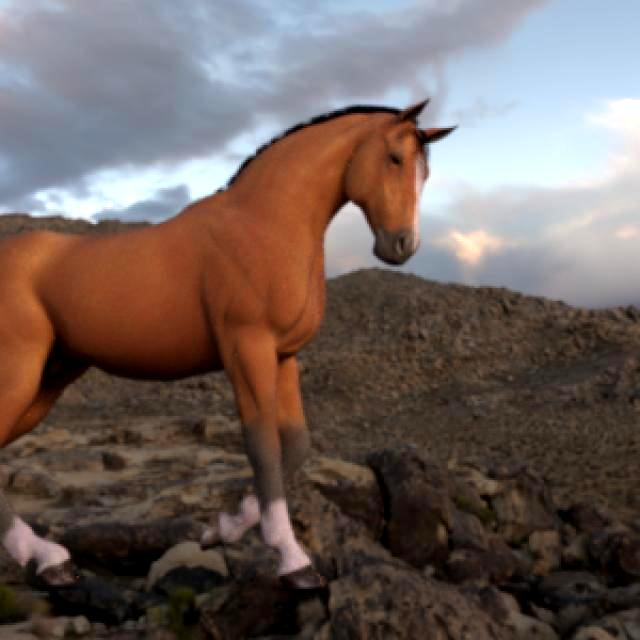horse: (0, 100, 455, 589), (1, 490, 78, 587)
